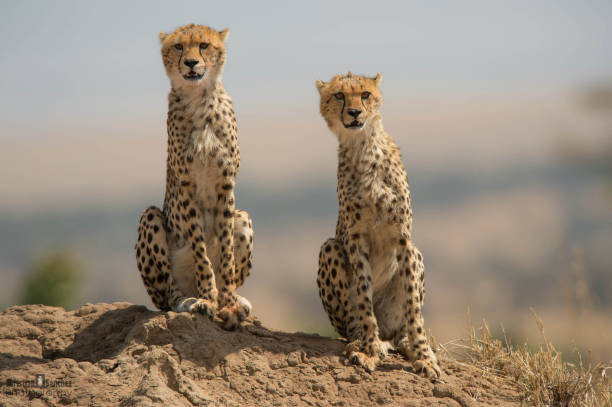cheetah: (151, 17, 237, 91), (306, 70, 390, 138)
